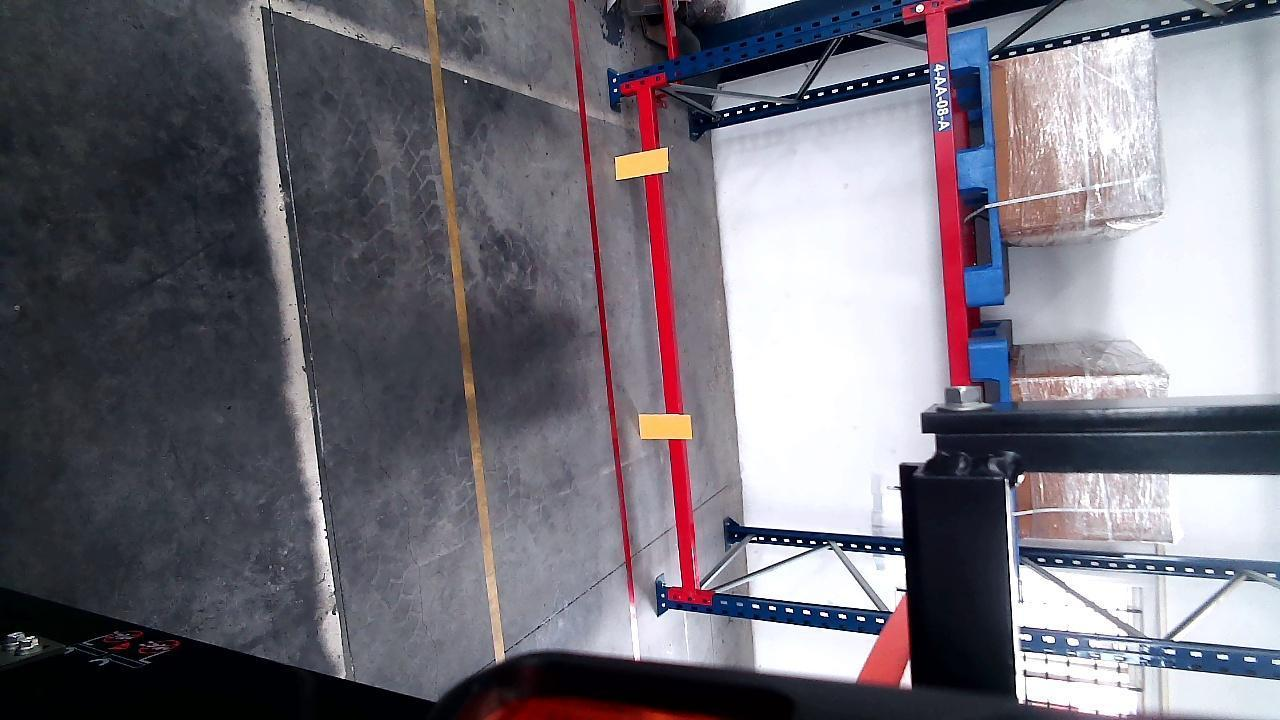h_rack: (638, 80, 695, 586), (930, 20, 965, 385), (1015, 637, 1280, 668)
orange_strip: (615, 149, 668, 179), (640, 411, 690, 440)
red_line: (564, 0, 642, 664)
small_pallet: (952, 26, 1000, 296)
yellow_line: (419, 0, 510, 657)
